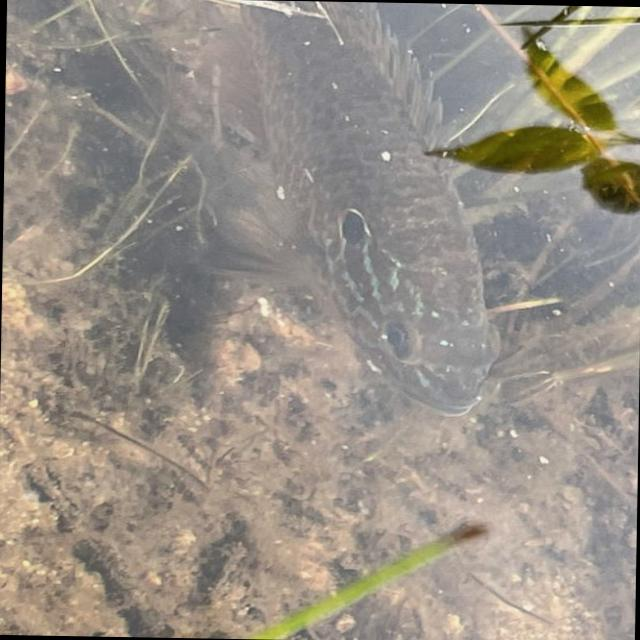Gunes Levregi: (203, 0, 539, 428)
